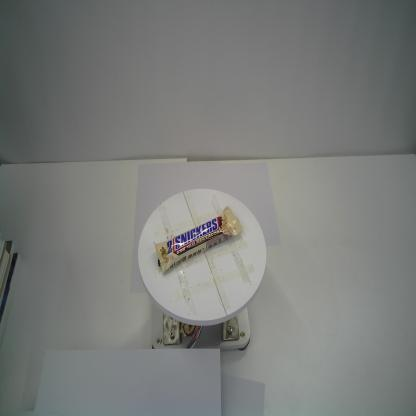Chocolate: (153, 205, 244, 275)
